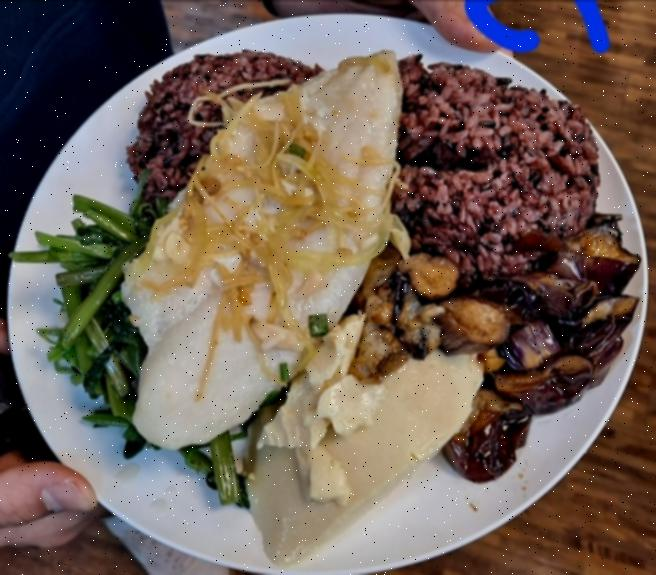plate: (0, 7, 647, 572)
purple rice: (394, 49, 598, 273), (127, 52, 324, 198)
side dish: (352, 214, 638, 490), (44, 196, 248, 504), (245, 319, 477, 565)
steamed fish fillet: (118, 44, 406, 446)
